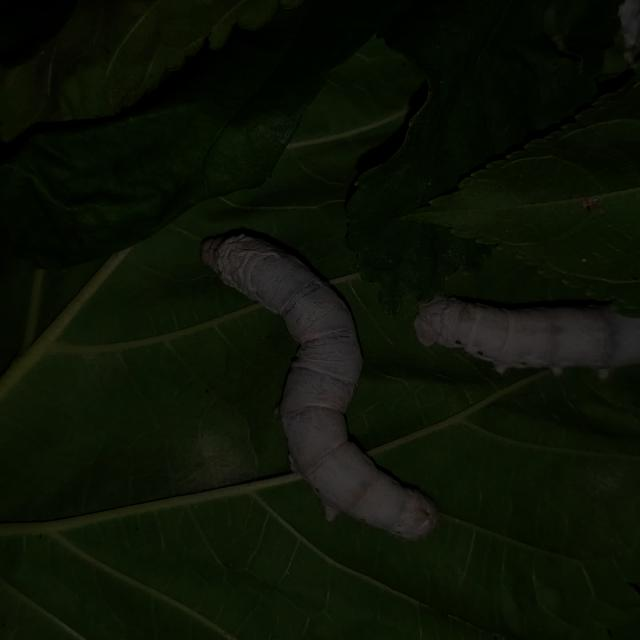Healthy: (197, 221, 441, 541)
